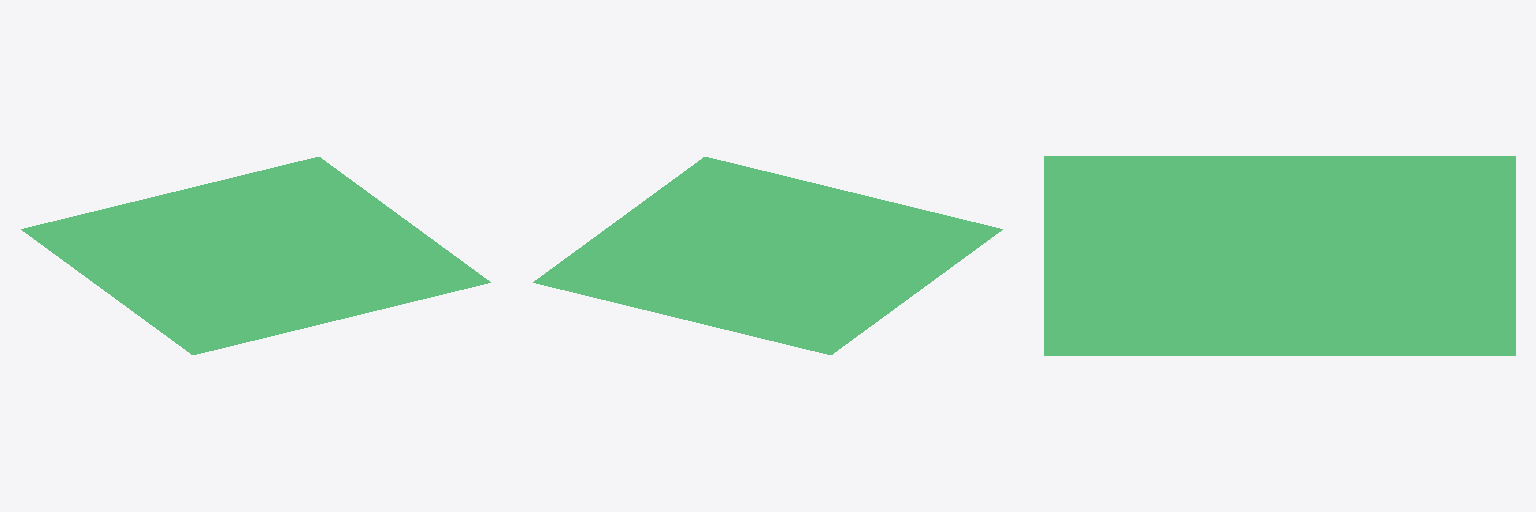
robot.urdf — cube.urdf:
<?xml version="0.0" ?>
<robot name="cube.urdf">
  <link name="planeLink">
    <inertial>
      <origin rpy="0 0 0" xyz="0 0 0"/>
       <mass value=".0"/>
       <inertia ixx="0" ixy="0" ixz="0" iyy="0" iyz="0" izz="0"/>
    </inertial>
    <visual>
      <origin rpy="0 0 0" xyz="0 0 0"/>
      <geometry>
        <mesh filename="plane.obj" scale="2 2 2"/>
      </geometry>
       <material name="green">
        <color rgba="0.44 0.85 0.56 1"/>
      </material>
    </visual>
    <collision>
      <origin rpy="0 0 0" xyz="0 0 0"/>
      <geometry>
    <box size="20 20 0.001"/>
      </geometry>
    </collision>
  </link>
</robot>

--- Facts derived from the render (not from the file) ---
The picture shows the robot from 3 angles, left to right: view 1: azimuth 30°, elevation 25°; view 2: azimuth 150°, elevation 25°; view 3: azimuth 270°, elevation 25°; orthographic projection.
Robot: cube.urdf — 1 links, 0 joints (none); root link planeLink; default pose: all joints at 0.
Visible links, largest first — view 1: planeLink; view 2: planeLink; view 3: planeLink.
Boxes of the visible links, <box> form: planeLink: <box>21,157,490,354</box>; planeLink: <box>533,157,1002,354</box>; planeLink: <box>1044,156,1515,355</box>.
Bounding box of the posed robot: 20 × 20 × 0 m (x, y, z).
1 mesh visuals loaded from 1 distinct referenced files (1 OBJ).
